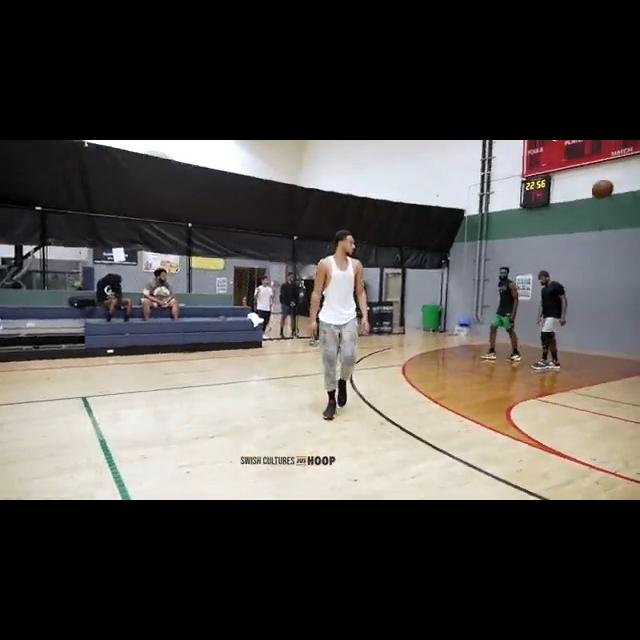basketball: (591, 178, 615, 201)
person: (313, 227, 372, 425), (478, 259, 524, 364), (531, 266, 570, 371), (141, 267, 183, 323), (94, 269, 133, 324), (278, 266, 302, 339), (254, 276, 277, 341)
